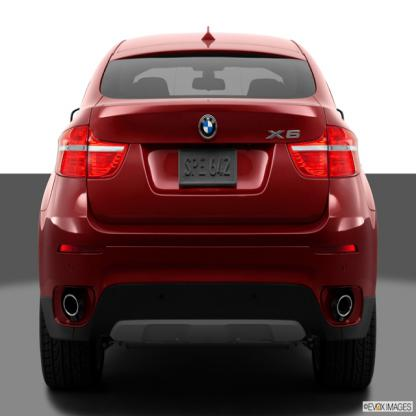Vehicle: (37, 26, 382, 394)
